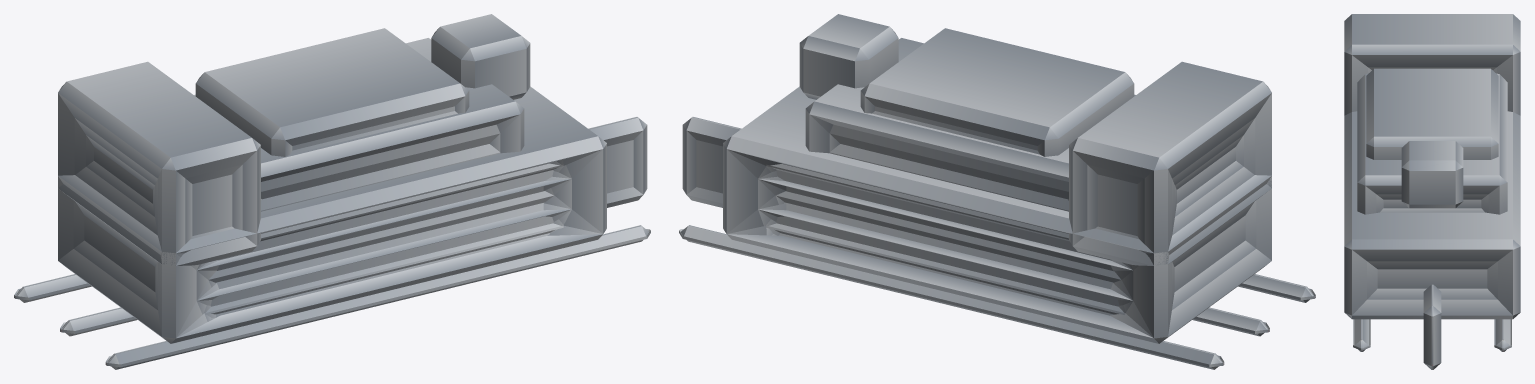
File: dt_sleigh.fbx
3 renders of one model, left to right at view 1: azimuth 30°, elevation 25°; view 2: azimuth 150°, elevation 25°; view 3: azimuth 270°, elevation 25°, orthographic. The views are drawn at different scales.
Parts seen in each view (by area): view 1: dt_sleigh; view 2: dt_sleigh; view 3: dt_sleigh.
Boxes of the visible parts, <box> form: dt_sleigh: <box>14,14,650,369</box>; dt_sleigh: <box>679,14,1315,369</box>; dt_sleigh: <box>1344,14,1520,369</box>.
Bounding box in the file's own units: 1500 × 506 × 506.
